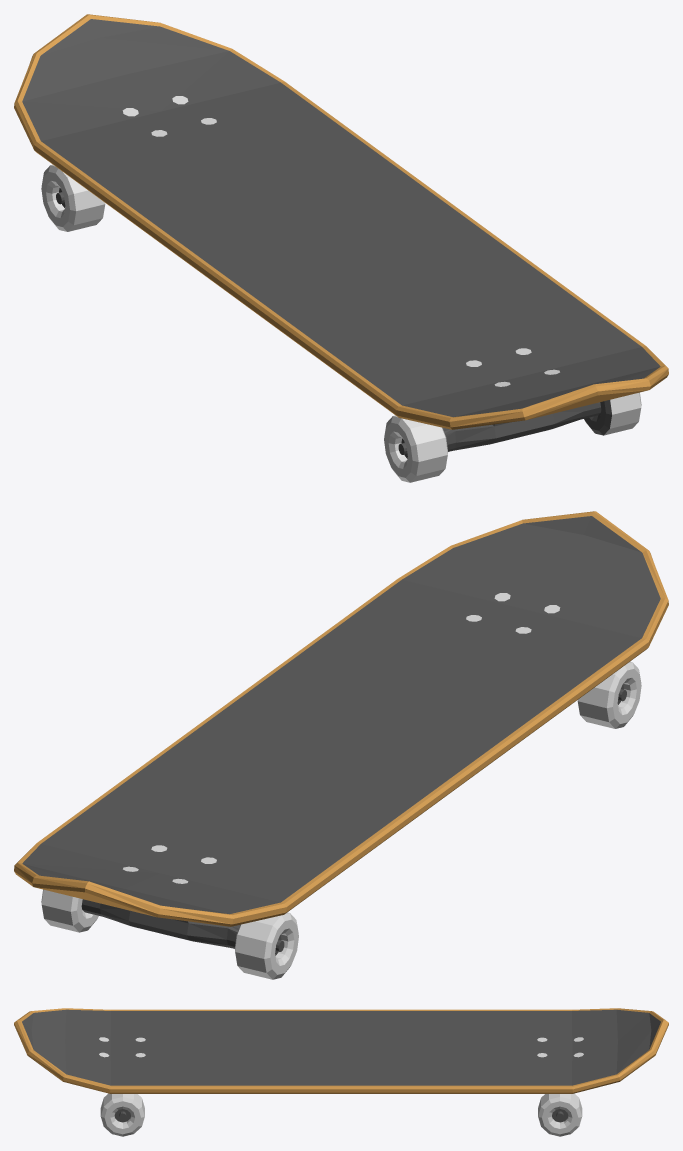
File: 1372 Skateboard.obj
3 renders of one model, top to bottom at view 1: azimuth 30°, elevation 25°; view 2: azimuth 150°, elevation 25°; view 3: azimuth 270°, elevation 25°, orthographic. The views are drawn at different scales.
Visible parts, largest first — view 1: Skateboard; view 2: Skateboard; view 3: Skateboard.
Part boxes in pixels (x1,y1,x2,y2): Skateboard: (14, 14, 668, 482); Skateboard: (14, 511, 668, 979); Skateboard: (14, 1008, 668, 1136).
Size of the model in its own units: 34.73 by 16.9 by 122.
Materials: 1 (1 with a texture image).
